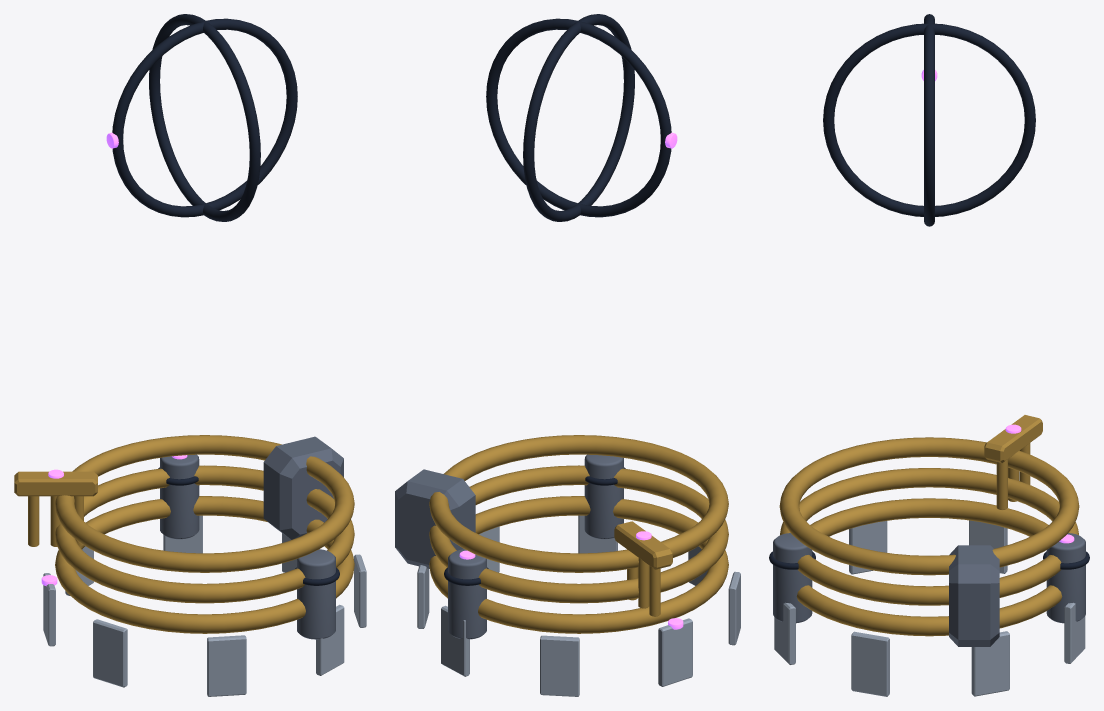
File: tower_singularity_rate_s6.glb
3 renders of one model, left to right at view 1: azimuth 30°, elevation 25°; view 2: azimuth 150°, elevation 25°; view 3: azimuth 270°, elevation 25°, orthographic.
Parts seen in each view (by area): view 1: singularity_stem_coil2, singularity_stem_coil1, singularity_stem_coil0, singularity_core_cage_b, singularity_core_cage_c, singularity_stem_junction, singularity_stem_cap4.363323129985824, singularity_stem_cap1.9198621771937625, singularity_stem_fin6, singularity_stem_fin7, singularity_manifold_header, singularity_stem_fin5 (+4 smaller); view 2: singularity_stem_coil2, singularity_stem_coil1, singularity_stem_coil0, singularity_core_cage_b, singularity_core_cage_c, singularity_stem_junction, singularity_stem_cap1.9198621771937625, singularity_stem_cap4.363323129985824, singularity_stem_fin1, singularity_stem_fin0, singularity_manifold_header, singularity_stem_fin2 (+5 smaller); view 3: singularity_stem_coil2, singularity_stem_coil1, singularity_stem_coil0, singularity_core_cage_c, singularity_stem_junction, singularity_stem_cap4.363323129985824, singularity_stem_fin4, singularity_core_cage_b, singularity_stem_cap1.9198621771937625, singularity_stem_fin3, singularity_manifold_header, singularity_stem_fin7 (+4 smaller).
Boxes of the visible parts, bbox=[...] form: singularity_stem_coil2: bbox=[55, 435, 354, 572]; singularity_stem_coil1: bbox=[55, 465, 354, 603]; singularity_stem_coil0: bbox=[55, 496, 354, 633]; singularity_core_cage_b: bbox=[112, 18, 297, 217]; singularity_core_cage_c: bbox=[149, 14, 260, 221]; singularity_stem_junction: bbox=[263, 436, 343, 539]; singularity_stem_cap4.363323129985824: bbox=[297, 549, 335, 639]; singularity_stem_cap1.9198621771937625: bbox=[160, 454, 199, 539]; singularity_stem_fin6: bbox=[207, 635, 246, 696]; singularity_stem_fin7: bbox=[93, 619, 127, 687]; singularity_manifold_header: bbox=[14, 471, 97, 496]; singularity_stem_fin5: bbox=[316, 604, 344, 675]; singularity_stem_coil2: bbox=[429, 435, 728, 572]; singularity_stem_coil1: bbox=[429, 465, 728, 603]; singularity_stem_coil0: bbox=[429, 496, 728, 633]; singularity_core_cage_b: bbox=[486, 18, 671, 217]; singularity_core_cage_c: bbox=[523, 14, 634, 221]; singularity_stem_junction: bbox=[395, 469, 475, 568]; singularity_stem_cap1.9198621771937625: bbox=[448, 549, 486, 639]; singularity_stem_cap4.363323129985824: bbox=[584, 454, 623, 539]; singularity_stem_fin1: bbox=[540, 635, 579, 696]; singularity_stem_fin0: bbox=[658, 618, 692, 686]; singularity_manifold_header: bbox=[614, 521, 672, 569]; singularity_stem_fin2: bbox=[441, 605, 469, 676]; singularity_stem_coil2: bbox=[779, 437, 1079, 575]; singularity_stem_coil1: bbox=[780, 468, 1078, 605]; singularity_stem_coil0: bbox=[796, 498, 1062, 636]; singularity_core_cage_c: bbox=[823, 23, 1035, 216]; singularity_stem_junction: bbox=[949, 545, 999, 646]; singularity_stem_cap4.363323129985824: bbox=[773, 533, 812, 623]; singularity_stem_fin4: bbox=[851, 631, 889, 696]; singularity_core_cage_b: bbox=[924, 14, 934, 226]; singularity_stem_cap1.9198621771937625: bbox=[1046, 533, 1085, 623]; singularity_stem_fin3: bbox=[971, 631, 1009, 696]; singularity_manifold_header: bbox=[984, 415, 1042, 462]; singularity_stem_fin7: bbox=[849, 521, 887, 574].
Bounding box in the file's own units: 1.22 × 2.39 × 1.15.
